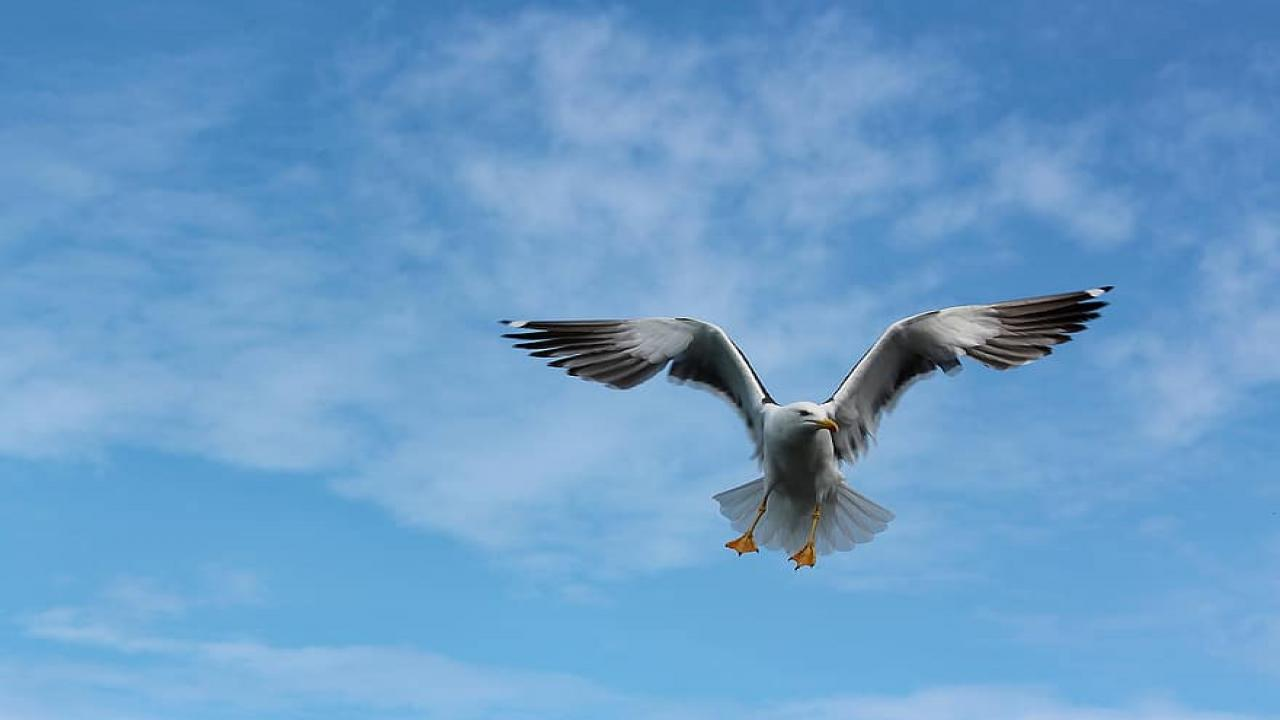Bird: (486, 277, 1132, 588)
